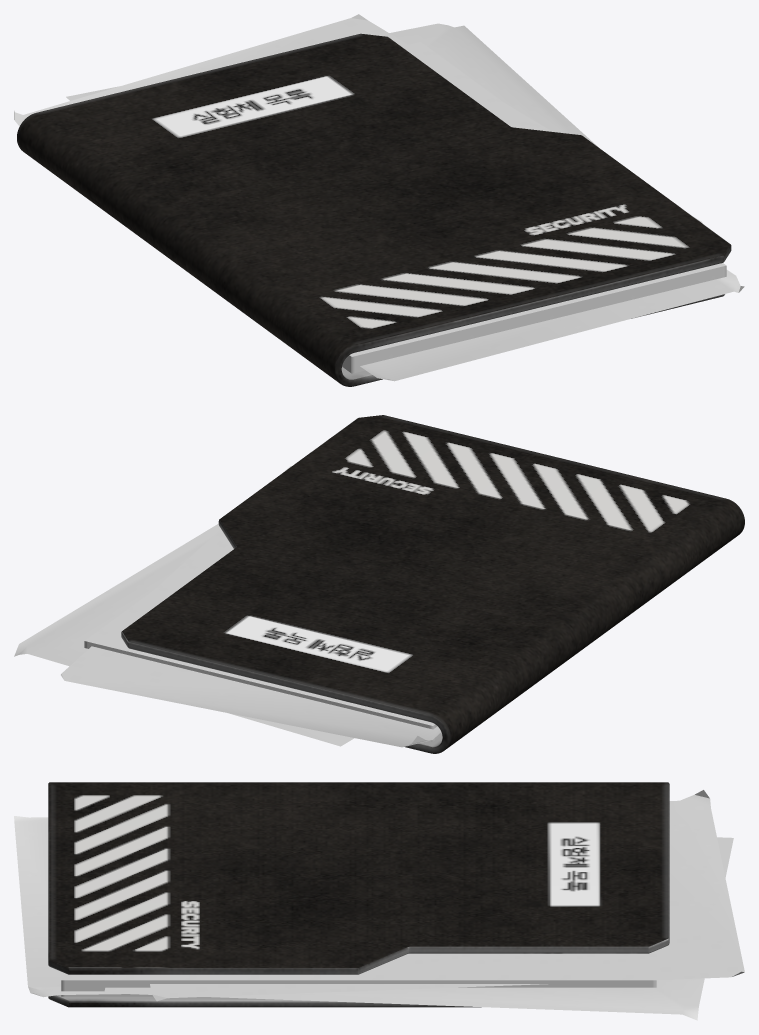
File: SM_Prop_Clue_ParticipantFile.fbx
The picture shows the model from 3 angles, top to bottom: view 1: azimuth 30°, elevation 25°; view 2: azimuth 150°, elevation 25°; view 3: azimuth 270°, elevation 25°; orthographic projection. The views are drawn at different scales.
Visible parts, largest first — view 1: SM_Prop_Clue_ParticipantFile; view 2: SM_Prop_Clue_ParticipantFile; view 3: SM_Prop_Clue_ParticipantFile.
Part boxes in pixels (x1=…): SM_Prop_Clue_ParticipantFile: x1=14, y1=14, x2=744, y2=386; SM_Prop_Clue_ParticipantFile: x1=14, y1=415, x2=744, y2=753; SM_Prop_Clue_ParticipantFile: x1=14, y1=782, x2=744, y2=1020.
Size of the model in its own units: 30.49 by 2.63 by 43.63.
1 material, 1 textured.
